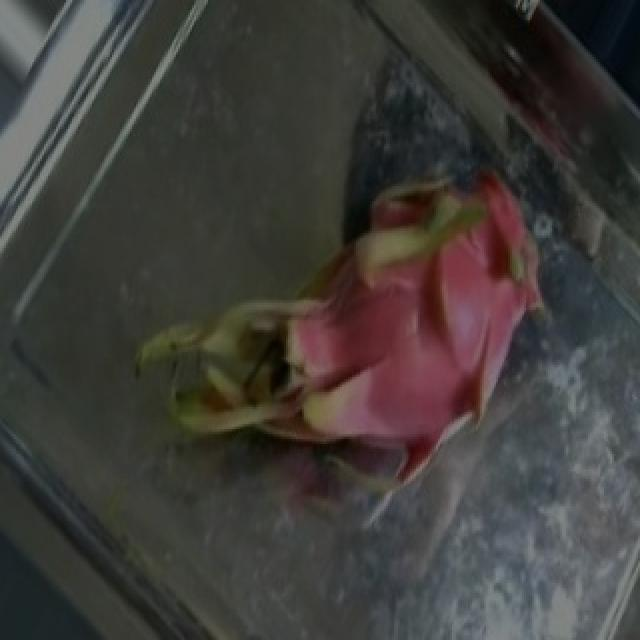fruit: (200, 67, 624, 533)
